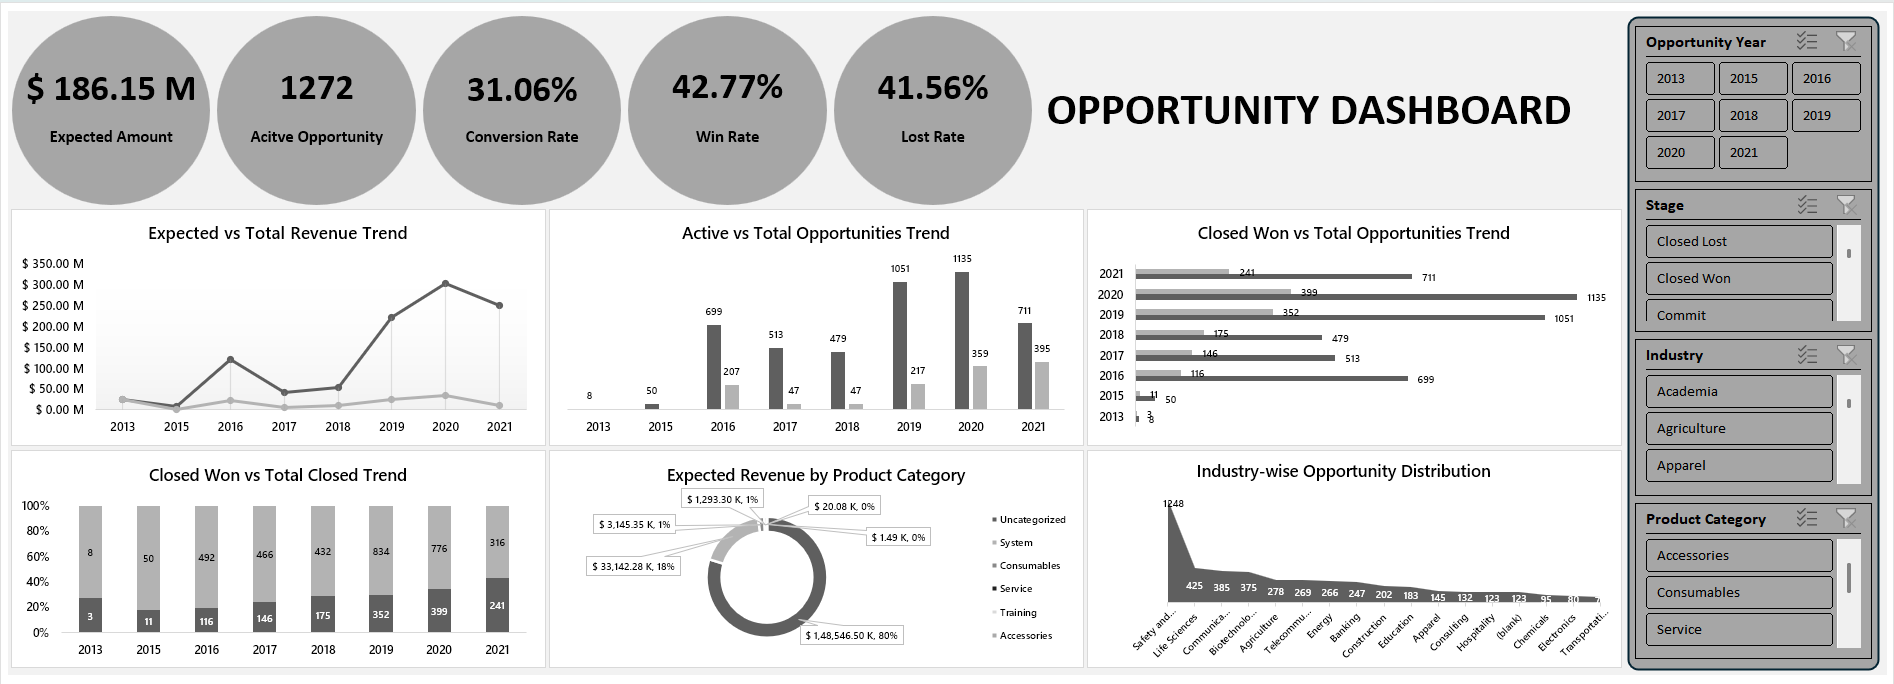

The dashboard page shown, as its layout file describes it:
{"tool":"powerbi","page":{"name":"Opportunity Dashboard","canvas":[1800,720],"ordinal":1},"visuals":[{"type":"cardVisual","fields":{"Data":["Opportunity.Expected Amount","Opportunity.Active Opportunities","Opportunity.Conversion Rate %","Opportunity.Win Rate","Opportunity.Loss Rate"]},"box":[0,0,1394.7,144.7],"z":0},{"type":"lineChart","title":"Expected Vs Forecast","fields":{"Category":["Opportunity.Created Date.Variation.Date Hierarchy.Year","Opportunity.Created Date.Variation.Date Hierarchy.Month"],"Y":["Opportunity.Expected Running Total","Opportunity.Forecast Running Total"]},"box":[8.2,134.1,515.1,284.5],"z":1000},{"type":"areaChart","title":"Active Vs Total Opportunities","fields":{"Category":["Opportunity.Created Date.Variation.Date Hierarchy.Year","Opportunity.Created Date.Variation.Date Hierarchy.Month"],"Y":["Opportunity.Active Opportunities","Opportunity.Total Opportunities"]},"box":[8.2,424.4,600.1,289],"z":2000},{"type":"columnChart","title":"Closed Won Vs Total Closed","fields":{"Category":["Opportunity.Created Date.Variation.Date Hierarchy.Year","Opportunity.Created Date.Variation.Date Hierarchy.Month"],"Y":["Opportunity.Won Opportunities","Opportunity.Closed Opportunities"]},"box":[531.7,134.1,485,284.5],"z":3000},{"type":"waterfallChart","title":"Closed Won Vs Total Opportunities","fields":{"Category":["Opportunity.Created Date.Variation.Date Hierarchy.Year","Opportunity.Created Date.Variation.Date Hierarchy.Quarter","Opportunity.Created Date.Variation.Date Hierarchy.Month"],"Y":["Opportunity.Won Opportunities"]},"box":[616.5,424.2,600.1,289.4],"z":4000},{"type":"funnel","title":"Expected Amount by Opportunity Type","fields":{"Category":["Opportunity.Product Category"],"Y":["Opportunity.Expected Amount"]},"box":[1025.2,135,387.4,283.7],"z":5000},{"type":"treemap","title":"Opportunities by Industry","fields":{"Group":["Account.Industry"],"Values":["CountNonNull(Opportunity.Opportunity ID)"]},"box":[1224.7,424.2,570,289.4],"z":6000},{"type":"slicer","fields":{"Values":["Opportunity.Created Date"]},"box":[1418.5,136.2,373.6,102.5],"z":7000},{"type":"slicer","fields":{"Values":["Opportunity.Stage"]},"box":[1419.1,251.7,185,75],"z":8000},{"type":"slicer","fields":{"Values":["Account.Industry"]},"box":[1607.3,251.7,185.4,75],"z":9000},{"type":"slicer","fields":{"Values":["Opportunity.Product Category"]},"box":[1419.4,339.6,185.3,74.6],"z":10000},{"type":"slicer","fields":{"Values":["Account.Shipping Country"]},"box":[1608.7,339.5,185.4,75],"z":11000},{"type":"image","box":[230.3,25.8,44.9,44.9],"z":12000},{"type":"image","box":[502.8,25.8,44.9,44.9],"z":13000},{"type":"image","box":[775.3,25.8,44.9,44.9],"z":14000},{"type":"image","box":[1047.8,25.8,44.9,44.9],"z":15000},{"type":"image","box":[1320.2,25.8,44.9,44.9],"z":16000},{"type":"textbox","box":[1383.4,25.3,408.7,99.7],"z":17000}]}

Visuals, with their boxes on the page's 1800x720 design canvas (x1, y1, x2, y2). These are canvas units, not pixel positions in the 1894x684 screenshot, which may show the page scaled, cropped or inside an application window:
cardVisual - Opportunity.Expected Amount x Opportunity.Active Opportunities: [0,0,1395,145]
"Expected Vs Forecast" lineChart: [8,134,523,419]
"Active Vs Total Opportunities" areaChart: [8,424,608,713]
"Closed Won Vs Total Closed" columnChart: [532,134,1017,419]
"Closed Won Vs Total Opportunities" waterfallChart: [616,424,1217,714]
"Expected Amount by Opportunity Type" funnel: [1025,135,1413,419]
"Opportunities by Industry" treemap: [1225,424,1795,714]
slicer - Opportunity.Created Date: [1418,136,1792,239]
slicer - Opportunity.Stage: [1419,252,1604,327]
slicer - Account.Industry: [1607,252,1793,327]
slicer - Opportunity.Product Category: [1419,340,1605,414]
slicer - Account.Shipping Country: [1609,340,1794,414]
image: [230,26,275,71]
image: [503,26,548,71]
image: [775,26,820,71]
image: [1048,26,1093,71]
image: [1320,26,1365,71]
textbox: [1383,25,1792,125]
